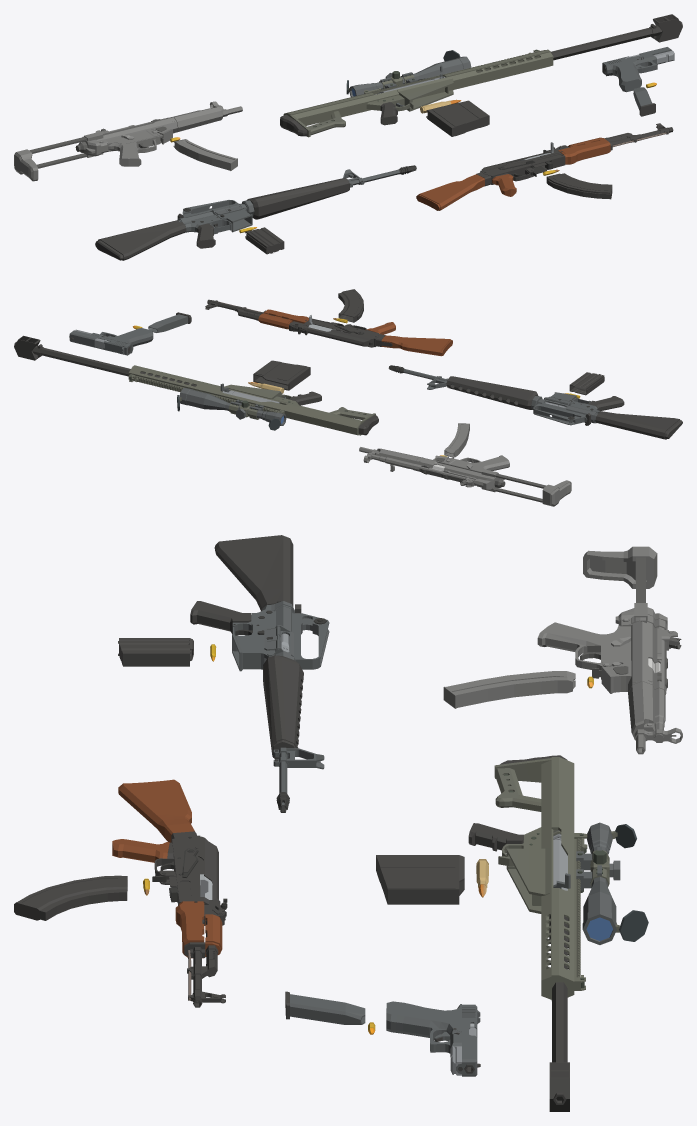
Rendered from Weapons Pack - Gun.fbx.
3 views of the same model, one above another, from view 1: azimuth 30°, elevation 25°; view 2: azimuth 150°, elevation 25°; view 3: azimuth 270°, elevation 25° (orthographic). The views are drawn at different scales.
Parts seen in each view (by area): view 1: Barrett_M82A1_Body, M16A1_Body, HK_MP5_Body, AK47_Body, Glock17_Body, Barrett_M82A1_Magazine, Ak47_Magazine, HK_MP5_Magazine, M16A1_Magazine, Glock17_Magazine; view 2: Barrett_M82A1_Body, M16A1_Body, HK_MP5_Body, AK47_Body, Glock17_Body, Barrett_M82A1_Magazine, Ak47_Magazine, M16A1_Magazine, HK_MP5_Magazine, Glock17_Magazine; view 3: Barrett_M82A1_Body, M16A1_Body, HK_MP5_Body, AK47_Body, Glock17_Body, Barrett_M82A1_Magazine, Ak47_Magazine, HK_MP5_Magazine, M16A1_Magazine, Glock17_Magazine.
Boxes of the visible parts, x1=… form: Barrett_M82A1_Body: x1=280, y1=14, x2=682, y2=137; M16A1_Body: x1=95, y1=165, x2=416, y2=260; HK_MP5_Body: x1=14, y1=101, x2=242, y2=181; AK47_Body: x1=416, y1=123, x2=673, y2=210; Glock17_Body: x1=602, y1=47, x2=674, y2=92; Barrett_M82A1_Magazine: x1=426, y1=100, x2=489, y2=136; Ak47_Magazine: x1=546, y1=173, x2=612, y2=199; HK_MP5_Magazine: x1=173, y1=139, x2=237, y2=170; M16A1_Magazine: x1=245, y1=227, x2=284, y2=254; Glock17_Magazine: x1=633, y1=87, x2=655, y2=116; Barrett_M82A1_Body: x1=14, y1=335, x2=378, y2=435; M16A1_Body: x1=388, y1=365, x2=682, y2=439; HK_MP5_Body: x1=359, y1=447, x2=571, y2=506; AK47_Body: x1=205, y1=299, x2=452, y2=356; Glock17_Body: x1=69, y1=328, x2=153, y2=355; Barrett_M82A1_Magazine: x1=253, y1=360, x2=310, y2=390; Ak47_Magazine: x1=338, y1=289, x2=363, y2=322; M16A1_Magazine: x1=569, y1=372, x2=604, y2=395; HK_MP5_Magazine: x1=444, y1=423, x2=469, y2=457; Glock17_Magazine: x1=148, y1=312, x2=191, y2=332; Barrett_M82A1_Body: x1=468, y1=755, x2=648, y2=1111; M16A1_Body: x1=190, y1=535, x2=329, y2=812; HK_MP5_Body: x1=537, y1=546, x2=682, y2=754; AK47_Body: x1=112, y1=779, x2=227, y2=1007; Glock17_Body: x1=386, y1=1001, x2=480, y2=1076; Barrett_M82A1_Magazine: x1=376, y1=855, x2=464, y2=904; Ak47_Magazine: x1=14, y1=875, x2=127, y2=920; HK_MP5_Magazine: x1=443, y1=671, x2=575, y2=708; M16A1_Magazine: x1=118, y1=638, x2=193, y2=666; Glock17_Magazine: x1=285, y1=991, x2=365, y2=1024.
Size of the model in its own units: 199 by 7.47 by 101.
